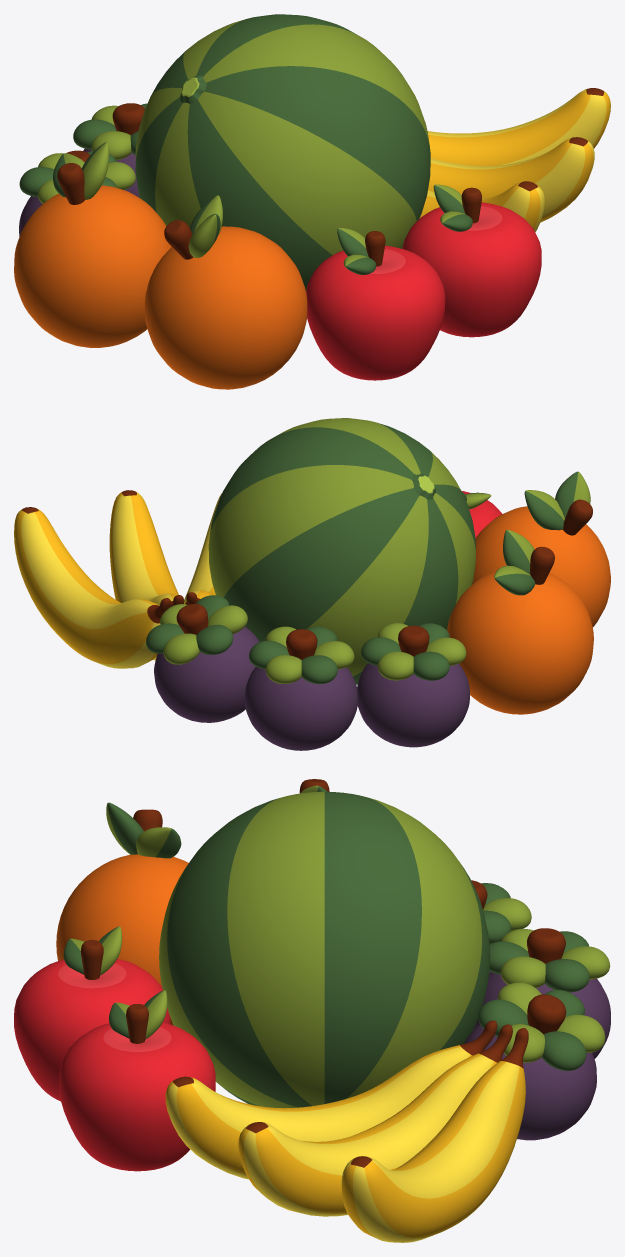
Rendered from maya2sketchfab.fbx.
The picture shows the model from 3 angles, top to bottom: view 1: azimuth 30°, elevation 25°; view 2: azimuth 150°, elevation 25°; view 3: azimuth 270°, elevation 25°; orthographic projection. The views are drawn at different scales.
Visible parts, largest first — view 1: Outer_Layer (×4), Watermellon, Bannanas, Stem (×6), Core (×2); view 2: Watermellon, Outer_Layer (×6), Stem (×5), Bannanas; view 3: Watermellon, Bannanas, Outer_Layer (×5), Stem (×6), Core (×2).
Boxes of the visible parts, x1,y1,x2,y2 form: Outer_Layer (×4): (14,185,541,389); Watermellon: (135,14,430,290); Bannanas: (419,88,610,232); Stem (×6): (19,103,481,274); Core (×2): (346,205,502,273); Watermellon: (208,418,475,684); Outer_Layer (×6): (154,491,610,750); Stem (×5): (146,471,592,684); Bannanas: (14,490,221,668); Watermellon: (159,791,490,1108); Bannanas: (165,1020,528,1242); Outer_Layer (×5): (14,854,610,1171); Stem (×6): (63,802,610,1070); Core (×2): (58,963,171,1051).
Bounding box in the file's own units: 47.26 × 20 × 36.05.
1 material, 1 textured.
